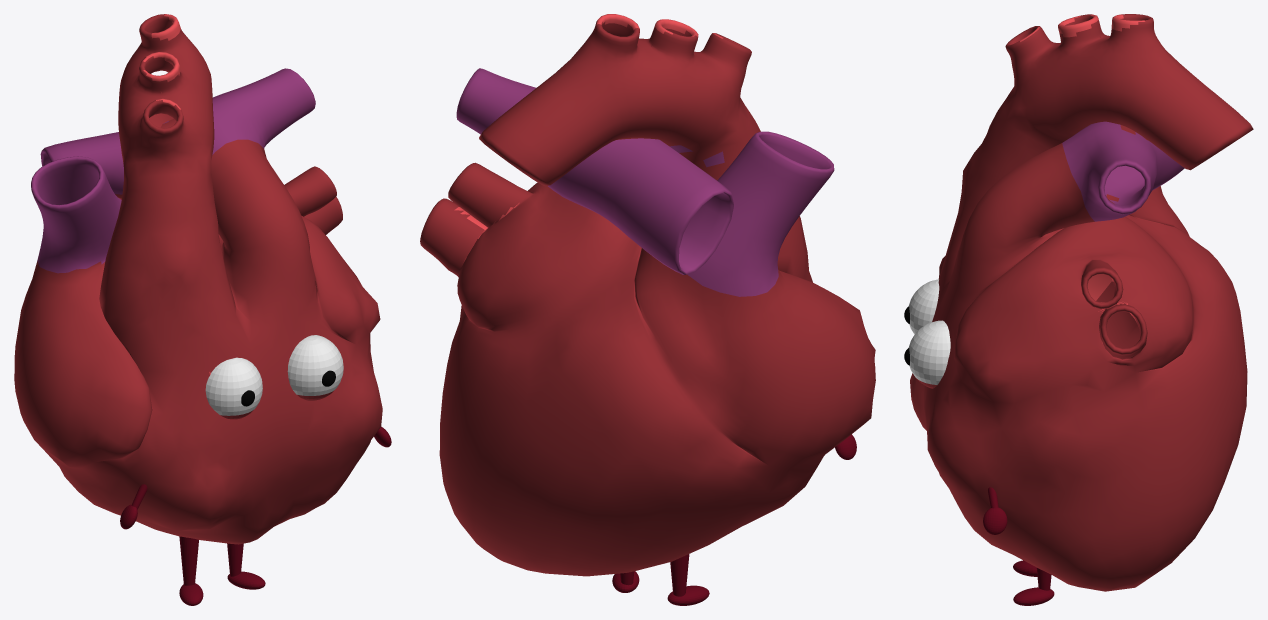
File: MEDYO HEALTHY heart characters.fbx
3 renders of one model, left to right at view 1: azimuth 30°, elevation 25°; view 2: azimuth 150°, elevation 25°; view 3: azimuth 270°, elevation 25°, orthographic. The views are drawn at different scales.
Visible parts, largest first — view 1: heart obj.002, mata.005, mata.004, paa.002, legs.002, kamay.005; view 2: heart obj.002, paa.002; view 3: heart obj.002, mata.005, mata.004, legs.002, kamay.004.
Boxes of the visible parts, <box> form: heart obj.002: <box>14,14,382,544</box>; mata.005: <box>287,335,343,400</box>; mata.004: <box>205,357,262,419</box>; paa.002: <box>179,536,203,605</box>; legs.002: <box>227,543,265,589</box>; kamay.005: <box>120,484,147,529</box>; heart obj.002: <box>420,14,875,576</box>; paa.002: <box>667,554,709,605</box>; heart obj.002: <box>910,14,1253,591</box>; mata.005: <box>904,320,950,388</box>; mata.004: <box>904,279,939,334</box>; legs.002: <box>1013,568,1054,605</box>; kamay.004: <box>983,487,1007,534</box>.
Bounding box in the file's own units: 1184 × 1795 × 998.
